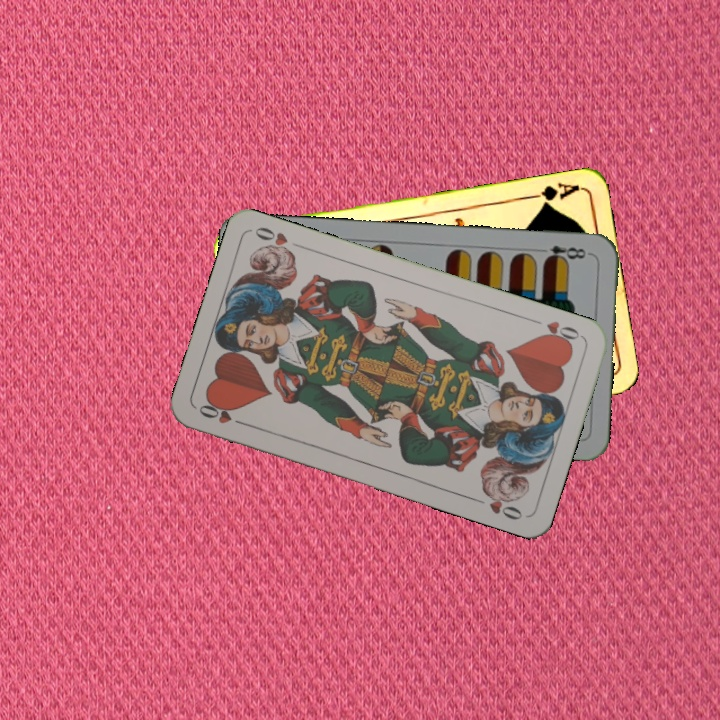E8: (534, 241, 593, 265)
GA: (523, 179, 582, 209)
HO: (527, 314, 584, 348), (194, 398, 251, 429)
